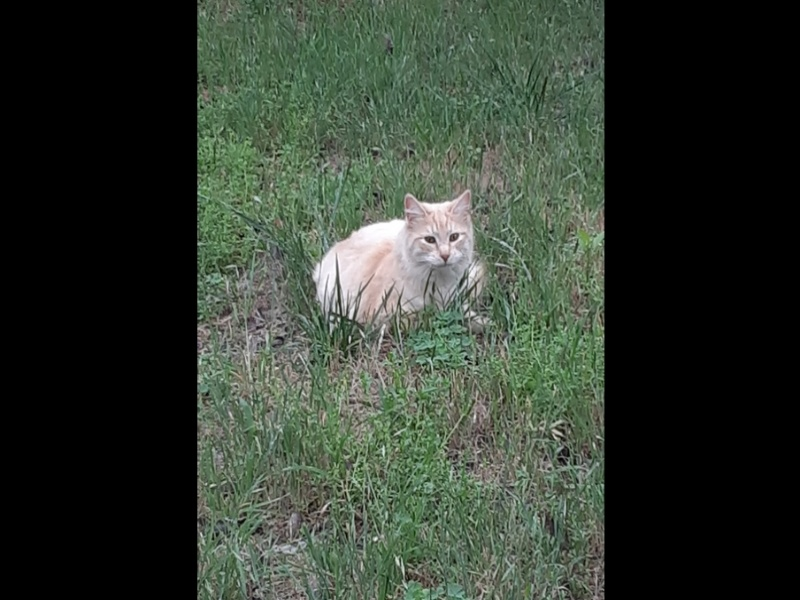cat: (308, 187, 489, 348)
